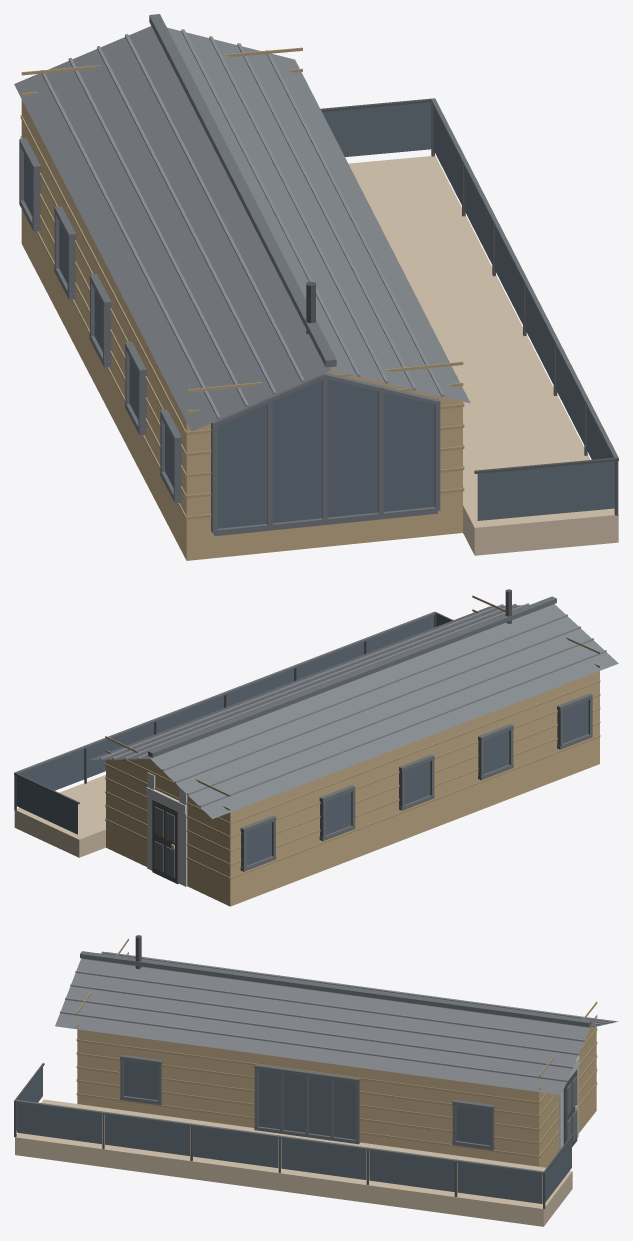
3 renders of one model, top to bottom at view 1: azimuth 30°, elevation 25°; view 2: azimuth 150°, elevation 25°; view 3: azimuth 270°, elevation 25°, orthographic. The views are drawn at different scales.
Parts seen in each view (by area): view 1: slate, larch, door_wood, window_glass_015, slate_dk, slate_lt, window_glass_007, door_wood_p, window_glass_008, pipe, window_glass_003, window_glass_004 (+4 smaller); view 2: slate, door_wood, slate_dk, slate_lt, door_wood_p, larch, window_glass_008, stone_band, window_glass_006, window_glass_005, door_dark_p, door_dark (+10 smaller); view 3: slate, door_wood, larch, slate_dk, slate_lt, door_wood_p, window_glass_004, window_glass_005, window_glass_003, window_glass_006, window_glass_002, window_glass_001 (+12 smaller).
Part boxes in pixels (x1,y1,x2,y2): slate: (14,26,470,431); larch: (348,156,618,555); door_wood: (21,99,462,560); window_glass_015: (217,379,434,528); slate_dk: (19,14,618,536); slate_lt: (41,29,444,419); window_glass_007: (477,461,614,520); door_wood_p: (20,47,464,519); window_glass_008: (322,102,431,156); pipe: (306,98,618,515); window_glass_003: (525,286,553,384); window_glass_004: (494,226,522,324); slate: (88,604,618,818); door_wood: (106,671,599,906); slate_dk: (15,596,592,871); slate_lt: (100,603,606,807); door_wood_p: (105,595,600,879); larch: (14,775,105,857); window_glass_008: (16,775,77,834); stone_band: (146,772,187,886); window_glass_006: (19,749,84,790); window_glass_005: (87,722,154,778); door_dark_p: (154,806,174,877); door_dark: (152,799,179,884); slate: (55,952,618,1094); door_wood: (77,1026,596,1167); larch: (15,1099,572,1226); slate_dk: (15,951,591,1173); slate_lt: (60,951,613,1081); door_wood_p: (76,938,597,1157); window_glass_004: (281,1138,366,1179); window_glass_005: (369,1150,454,1191); window_glass_003: (193,1126,278,1167); window_glass_006: (457,1162,542,1203); window_glass_002: (105,1114,189,1155); window_glass_001: (17,1103,101,1144).
Size of the model in its own units: 11.02 by 4.3 by 15.43.
